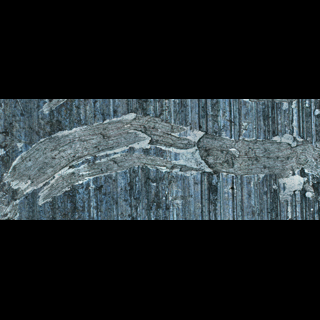d: (51, 110, 180, 182), (159, 118, 261, 180), (2, 138, 76, 216), (261, 125, 320, 208), (279, 99, 320, 119)
